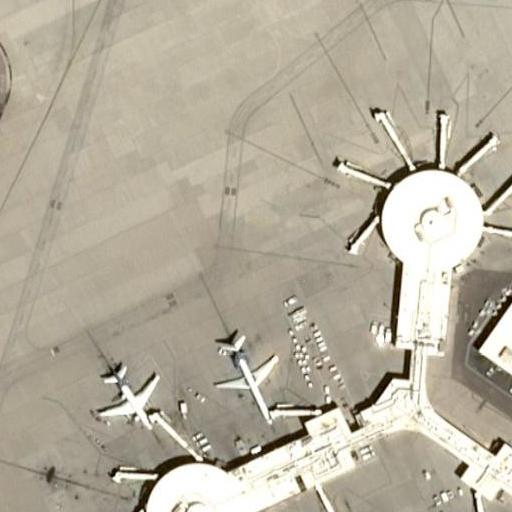Aircraft: (214, 337, 278, 423), (94, 360, 162, 434)
